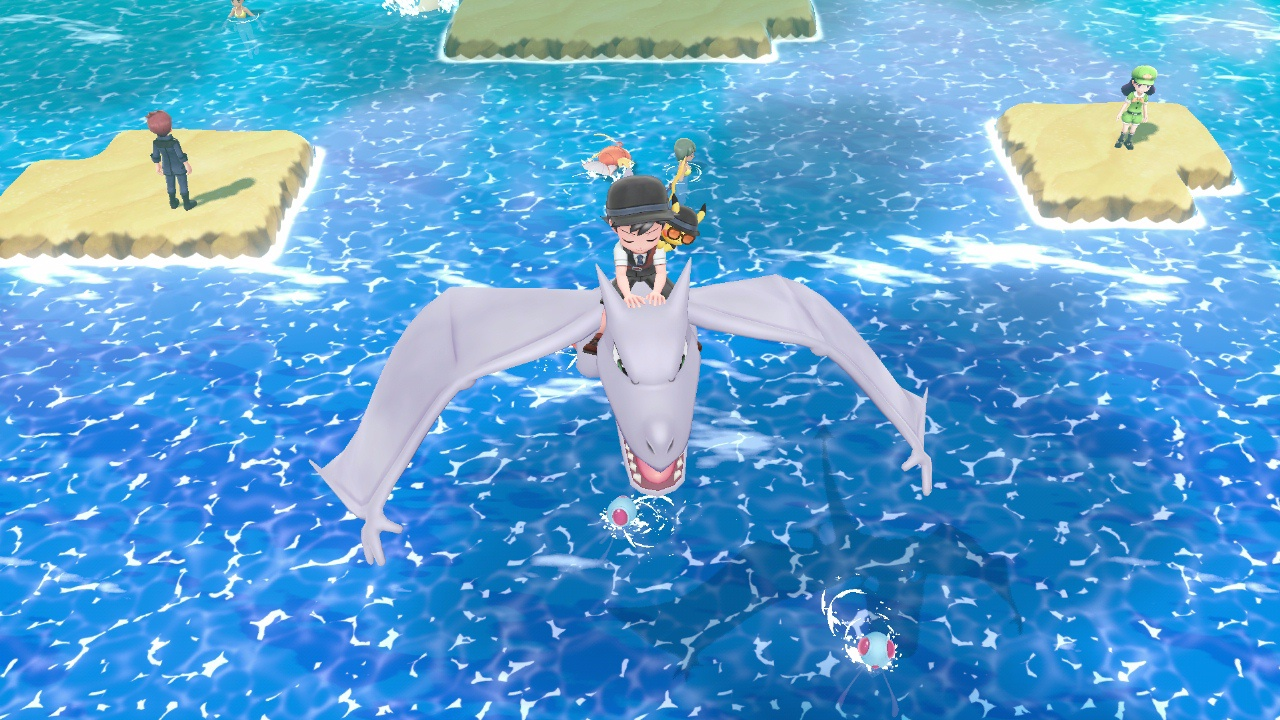Red: (581, 141, 638, 180)
